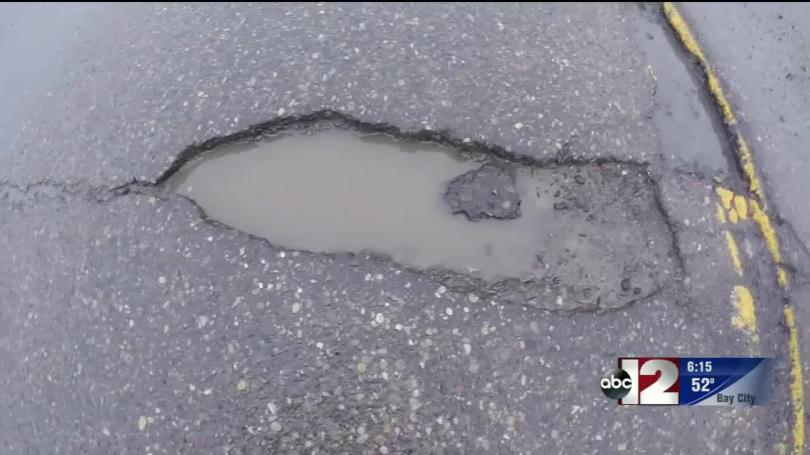pothole: (99, 64, 698, 330)
